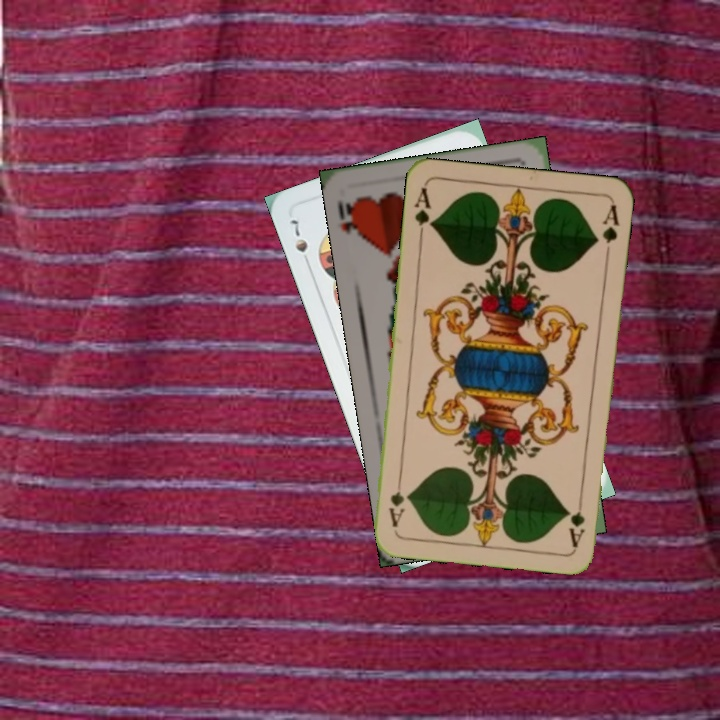GA: (410, 184, 436, 242), (565, 490, 587, 549)
HO: (336, 193, 364, 244)
S7: (286, 215, 313, 270)
